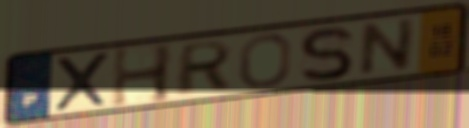H: (109, 41, 177, 110)
N: (355, 16, 419, 78)
O: (236, 32, 294, 90)
R: (172, 38, 236, 99)
S: (296, 25, 356, 85)
X: (52, 50, 112, 114)
